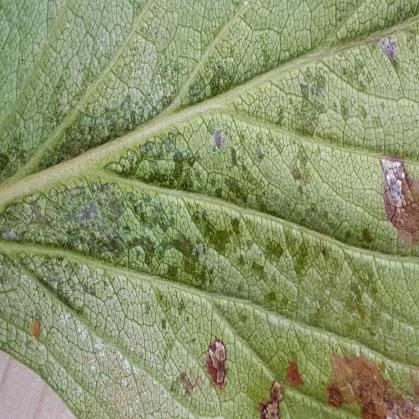Angular Leafspot: (0, 0, 418, 418)
